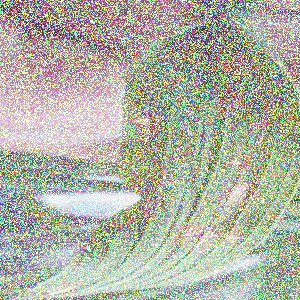Brown_Spot: (162, 219, 224, 253), (219, 172, 262, 213), (210, 80, 245, 129), (130, 179, 163, 230), (128, 93, 159, 147), (212, 42, 253, 79), (239, 113, 288, 143), (220, 219, 253, 253), (220, 148, 264, 171), (158, 146, 191, 170), (150, 169, 181, 191), (73, 233, 101, 252)
